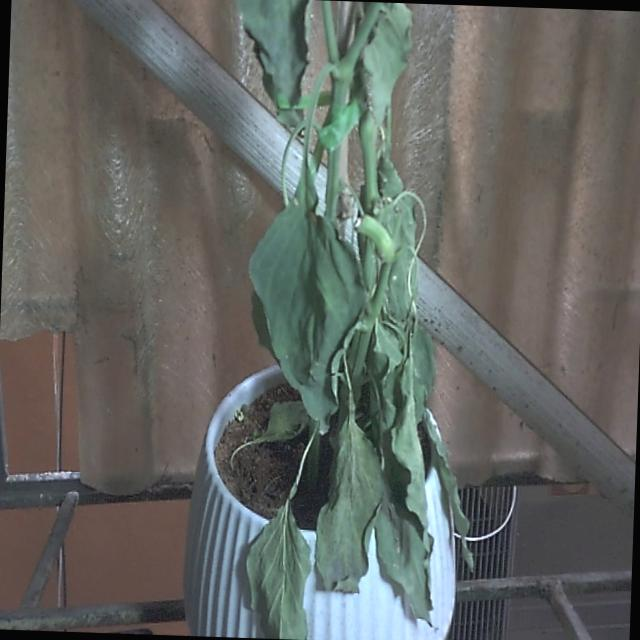Leaf: (250, 199, 364, 424), (316, 400, 384, 592), (238, 0, 309, 125), (247, 502, 311, 639)
